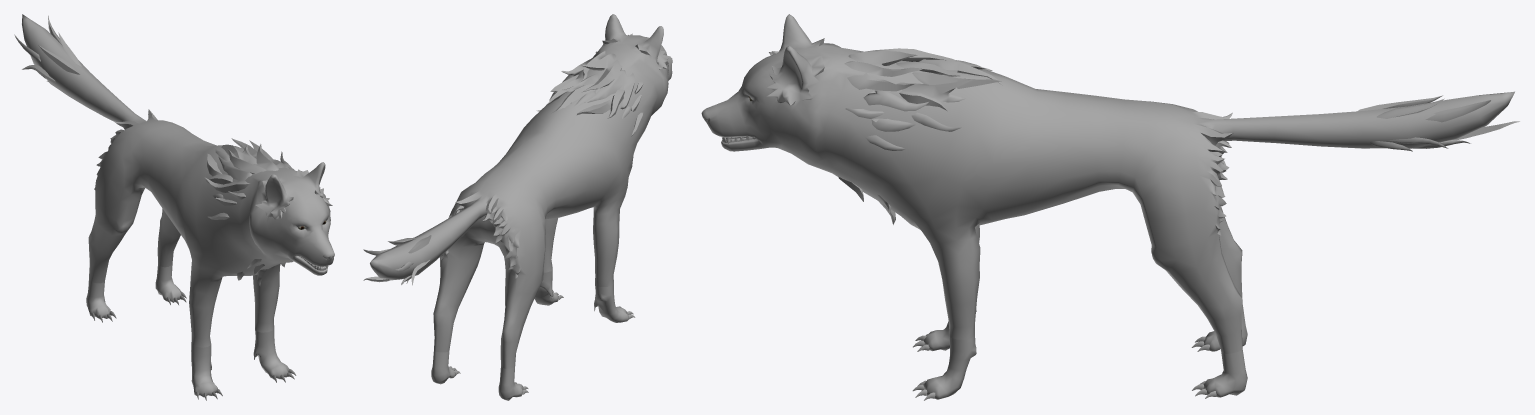
The model's file is Wolf.fbx.
3 views of the same model, side by side, from view 1: azimuth 30°, elevation 25°; view 2: azimuth 150°, elevation 25°; view 3: azimuth 270°, elevation 25° (orthographic). The views are drawn at different scales.
Parts seen in each view (by area): view 1: Body, NeckHair01, NeckHair02, TailHair, NeckHair03, Nails; view 2: Body, NeckHair01, NeckHair02, TailHair, NeckHair03; view 3: Body, NeckHair01, TailHair, NeckHair03, NeckHair02.
Part boxes in pixels (<box>): Body: <box>22,14,334,397</box>; NeckHair01: <box>205,144,294,192</box>; NeckHair02: <box>207,144,256,219</box>; TailHair: <box>14,15,81,83</box>; NeckHair03: <box>205,138,272,198</box>; Nails: <box>91,291,296,400</box>; Body: <box>370,14,672,400</box>; NeckHair01: <box>561,51,634,109</box>; NeckHair02: <box>551,73,643,136</box>; TailHair: <box>363,235,431,285</box>; NeckHair03: <box>536,74,630,118</box>; Body: <box>701,14,1514,399</box>; NeckHair01: <box>844,48,957,111</box>; TailHair: <box>1357,95,1519,151</box>; NeckHair03: <box>897,72,1001,131</box>; NeckHair02: <box>845,59,1002,150</box>.
Bounding box in the file's own units: 0.4201 × 1.06 × 2.29.
